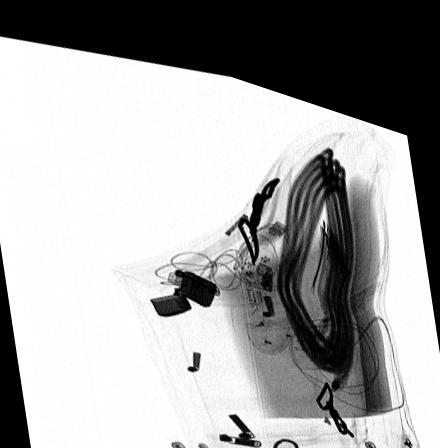Lighter: (149, 257, 217, 306)
